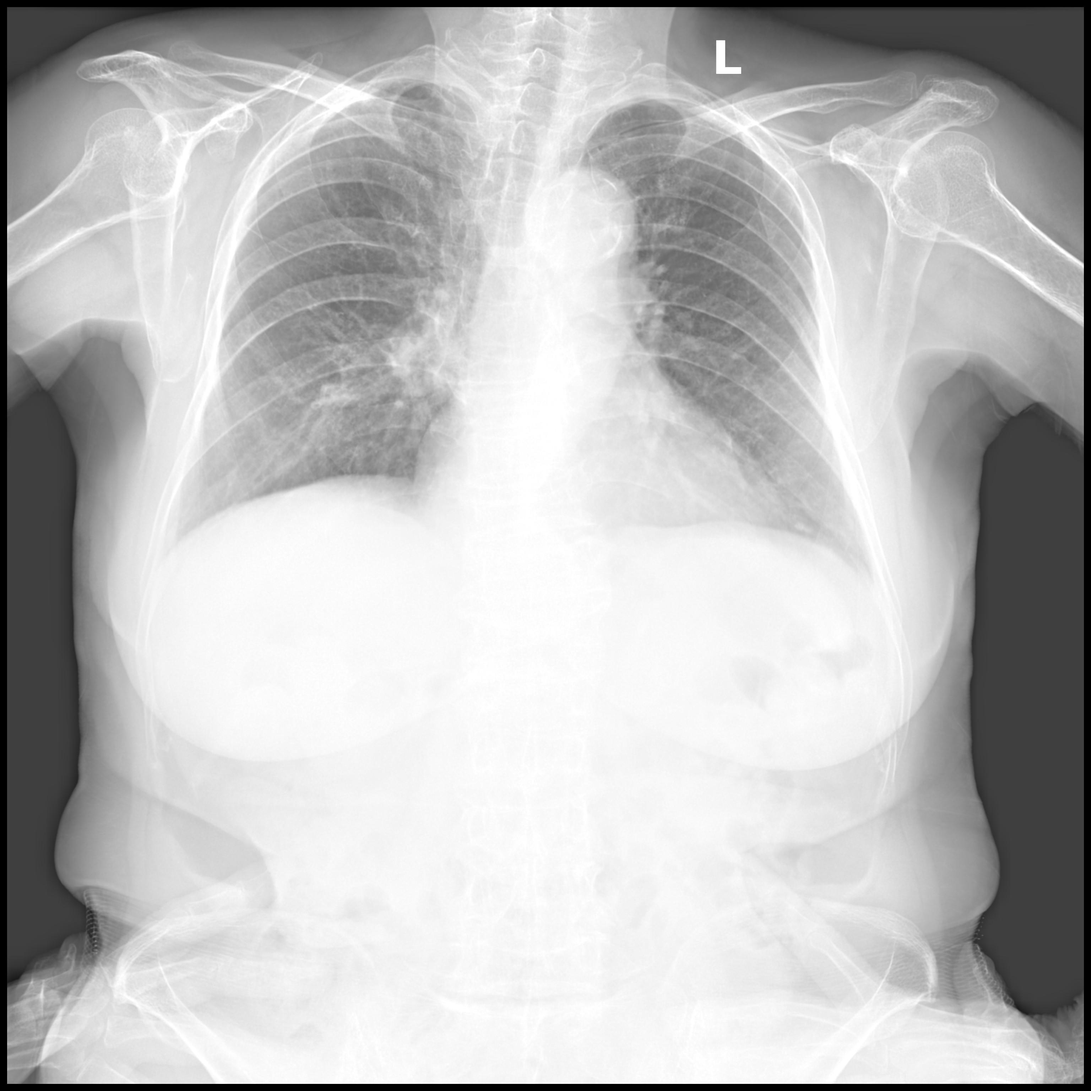Aortic enlargement: (521, 168, 645, 302)
